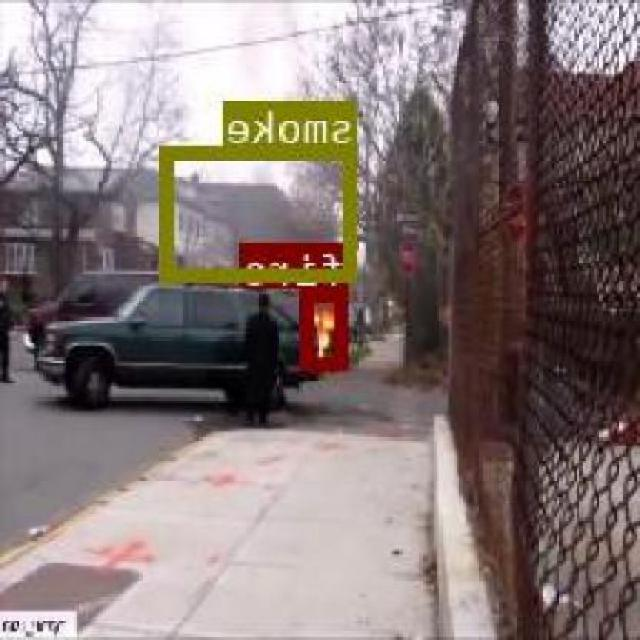smoke: (165, 145, 358, 278)
